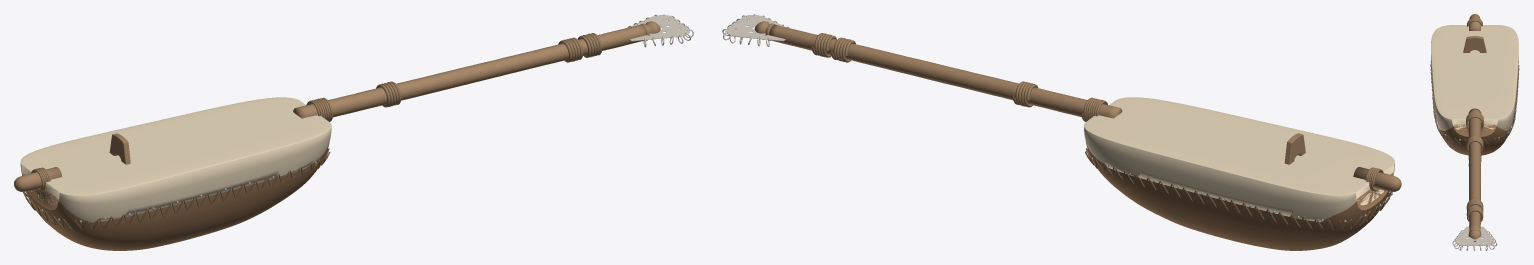
File: guembri.glb
The picture shows the model from 3 angles, left to right: view 1: azimuth 30°, elevation 25°; view 2: azimuth 150°, elevation 25°; view 3: azimuth 270°, elevation 25°; orthographic projection. The views are drawn at different scales.
Visible parts, largest first — view 1: Skin, Body, Neck, Bindings, Lacing, Sersera, Bridge; view 2: Skin, Body, Neck, Bindings, Lacing, Sersera, Bridge; view 3: Skin, Neck, Body, Bindings, Sersera, Lacing, Bridge, SerseraRings, Tacks.
Part boxes in pixels (x1,y1,x2,y2): Skin: [20, 97, 331, 222]; Body: [22, 142, 329, 250]; Neck: [14, 21, 660, 191]; Bindings: [31, 33, 602, 191]; Lacing: [23, 148, 330, 229]; Sersera: [629, 15, 689, 41]; Bridge: [109, 133, 130, 164]; Skin: [1084, 97, 1394, 222]; Body: [1085, 141, 1393, 250]; Neck: [754, 21, 1401, 191]; Bindings: [811, 33, 1383, 191]; Lacing: [1085, 148, 1392, 230]; Sersera: [725, 15, 785, 41]; Bridge: [1284, 133, 1305, 164]; Skin: [1431, 25, 1518, 131]; Neck: [1468, 14, 1481, 241]; Body: [1438, 124, 1510, 155]; Bindings: [1466, 17, 1483, 221]; Sersera: [1455, 226, 1494, 245]; Lacing: [1430, 61, 1519, 145]; Bridge: [1463, 36, 1486, 52]; SerseraRings: [1452, 230, 1497, 250]; Tacks: [1430, 60, 1519, 140].
Bounding box in the file's own units: 1.4 × 0.2242 × 0.2289.
